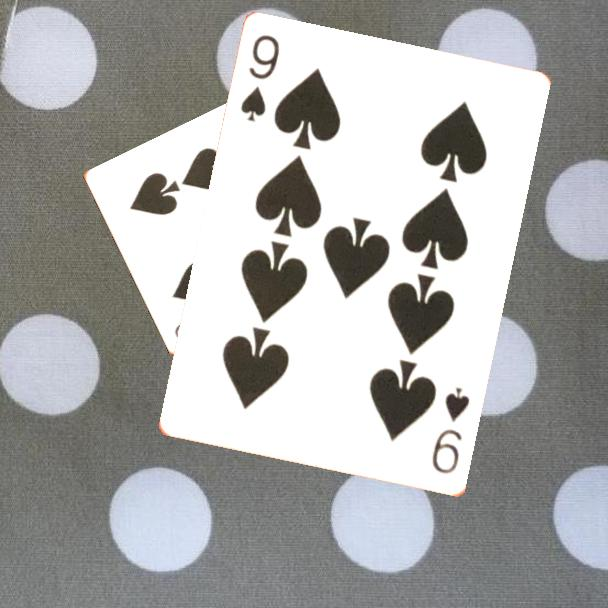s09: (237, 31, 283, 125), (428, 384, 473, 478)
